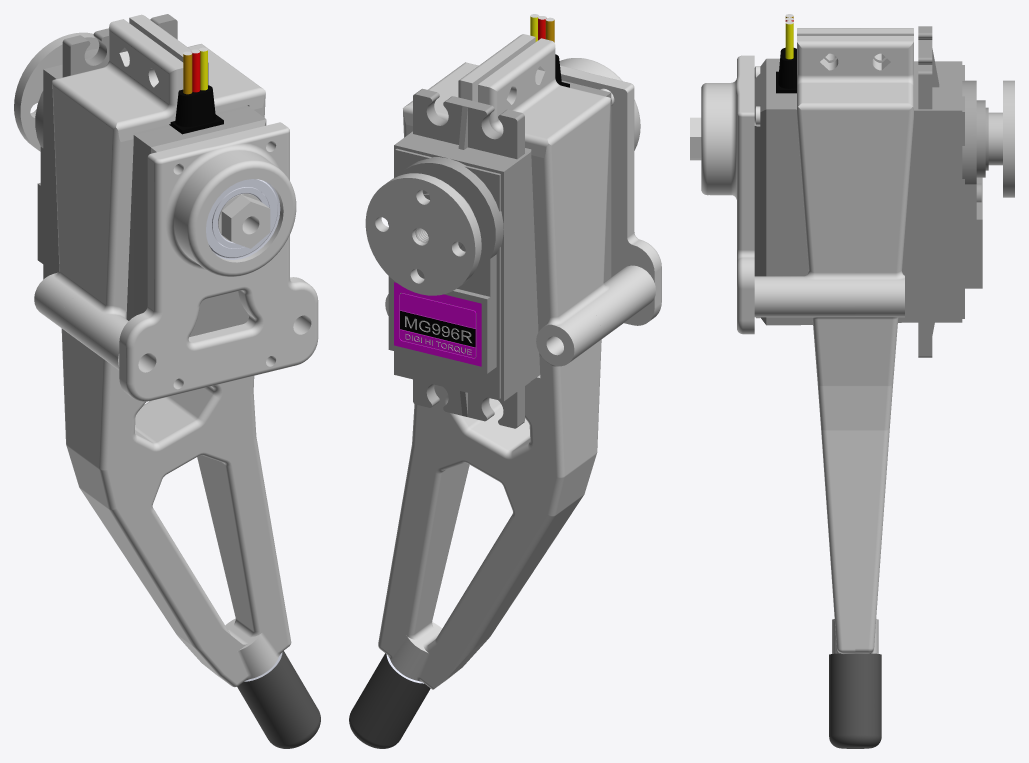
The model's file is tibia.dae.
3 views of the same model, side by side, from view 1: azimuth 30°, elevation 25°; view 2: azimuth 150°, elevation 25°; view 3: azimuth 270°, elevation 25° (orthographic). The views are drawn at different scales.
Visible parts, largest first — view 1: obj21, obj13, obj22, obj1, obj23, obj12, obj14, obj18, obj8, obj17; view 2: obj22, obj1, obj21, obj12, obj13, obj3, obj23; view 3: obj1, obj21, obj22, obj13, obj23, obj12, obj8.
Part boxes in pixels (x1,y1,x2,y2): obj21: (62, 38, 301, 687); obj13: (119, 122, 318, 401); obj22: (34, 14, 244, 678); obj1: (35, 14, 266, 337); obj23: (237, 651, 320, 748); obj12: (14, 32, 99, 151); obj14: (218, 193, 270, 248); obj18: (206, 179, 280, 259); obj8: (169, 85, 223, 134); obj17: (212, 187, 269, 248); obj22: (378, 57, 601, 689); obj1: (388, 80, 611, 428); obj21: (423, 34, 655, 681); obj12: (365, 173, 481, 295); obj13: (559, 58, 661, 325); obj3: (394, 282, 481, 366); obj23: (349, 653, 430, 748); obj1: (754, 26, 988, 357); obj21: (754, 28, 855, 654); obj22: (855, 28, 913, 653); obj13: (701, 55, 754, 334); obj23: (829, 653, 881, 748); obj12: (988, 80, 1014, 197); obj8: (776, 47, 796, 93).
Bounding box in the file's own units: 0.0453 × 0.0555 × 0.1274.
